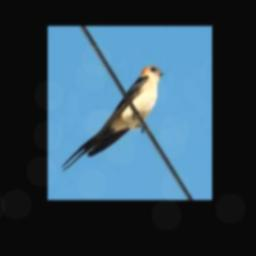Swallow: (61, 65, 165, 172)
